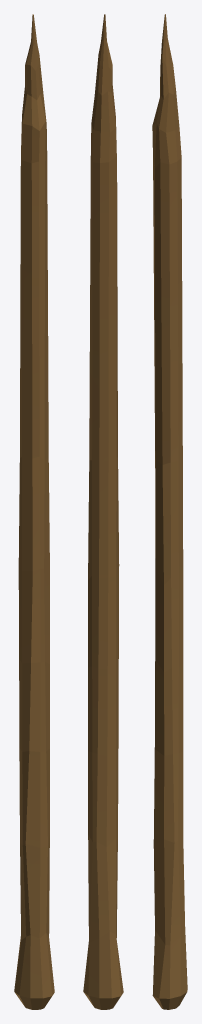
Rendered from sharpened_stick.glb.
The picture shows the model from 3 angles, left to right: view 1: azimuth 30°, elevation 25°; view 2: azimuth 210°, elevation 25°; view 3: azimuth 270°, elevation 25°; orthographic projection.
Visible parts, largest first — view 1: sharpened_stick; view 2: sharpened_stick; view 3: sharpened_stick.
Part boxes in pixels (box(x1,y1,x2,y2)): sharpened_stick: box(14, 14, 54, 1009); sharpened_stick: box(83, 14, 123, 1009); sharpened_stick: box(152, 14, 187, 1009).
Size of the model in its own units: 0.071 by 2.25 by 0.0724.
Materials: 1 (1 with a texture image).
